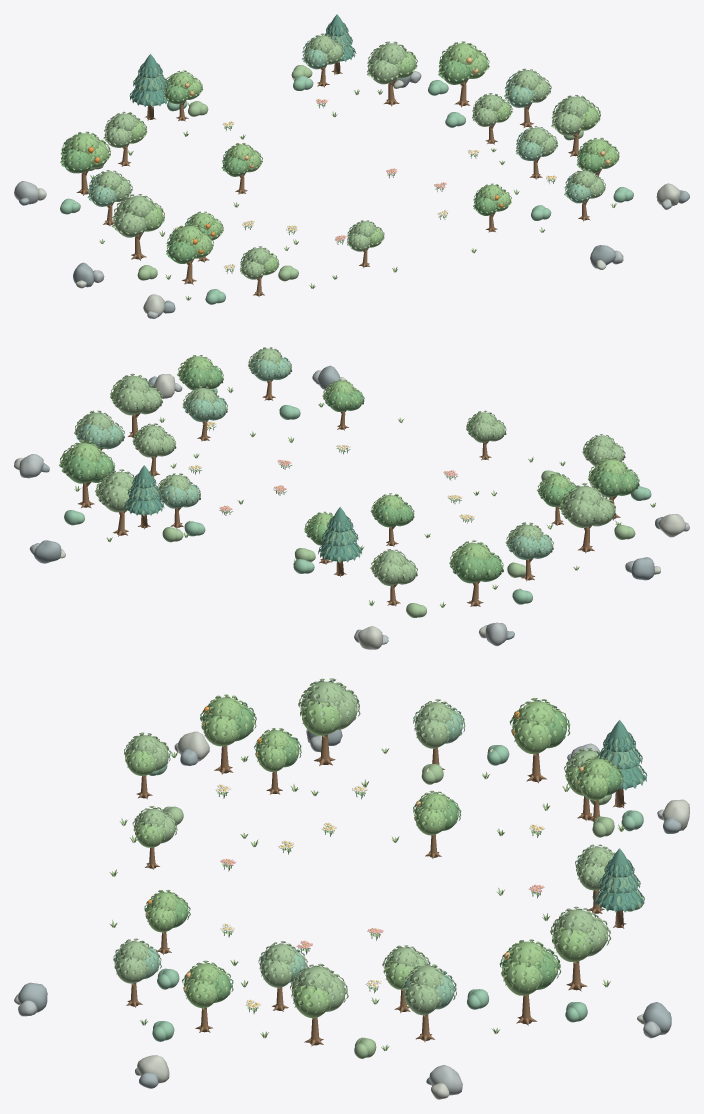
The model's file is SM_IslandNature.fbx.
3 renders of one model, top to bottom at view 1: azimuth 30°, elevation 25°; view 2: azimuth 150°, elevation 25°; view 3: azimuth 270°, elevation 25°, orthographic. The views are drawn at different scales.
Parts seen in each view (by area): view 1: SM_IslandNature; view 2: SM_IslandNature; view 3: SM_IslandNature.
Part boxes in pixels (x1=…): SM_IslandNature: x1=14, y1=14, x2=689, y2=318; SM_IslandNature: x1=14, y1=347, x2=689, y2=649; SM_IslandNature: x1=14, y1=678, x2=689, y2=1099.
Bounding box in the file's own units: 8631 × 6724 × 1574.
